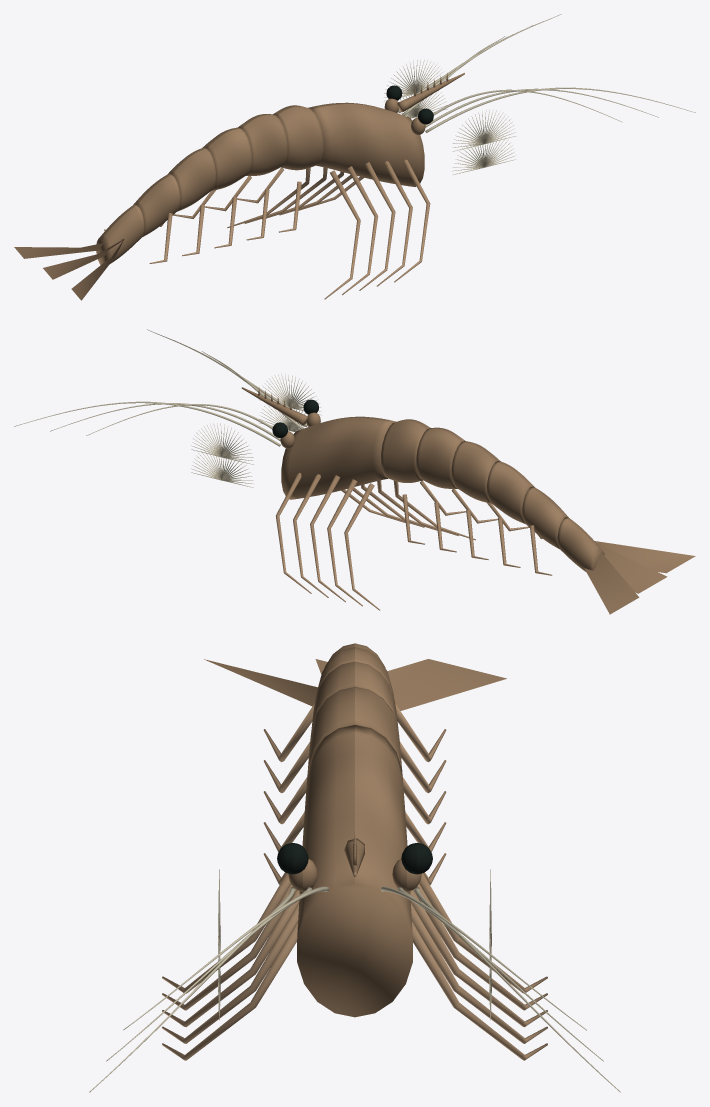
File: bambooshrimp-desktop.glb
3 views of the same model, one above another, from view 1: azimuth 30°, elevation 25°; view 2: azimuth 150°, elevation 25°; view 3: azimuth 270°, elevation 25° (orthographic). The views are drawn at different scales.
Parts seen in each view (by area): view 1: carapace, pereiopod, filter-feeding-fan, antenna, pleopod, serrated-rostrum; view 2: carapace, pereiopod, filter-feeding-fan, antenna, pleopod, serrated-rostrum; view 3: carapace, pereiopod, pleopod, antenna, eye, eye-stalk, filter-feeding-fan.
Part boxes in pixels (x1,y1,x2,y2): carapace: (14, 102, 424, 300); pereiopod: (227, 159, 430, 299); filter-feeding-fan: (384, 59, 515, 174); antenna: (398, 14, 695, 132); pleopod: (104, 167, 301, 263); serrated-rostrum: (397, 73, 464, 111); carapace: (281, 416, 695, 614); pereiopod: (276, 472, 475, 610); filter-feeding-fan: (191, 373, 321, 487); antenna: (14, 329, 307, 446); pleopod: (402, 480, 552, 575); serrated-rostrum: (241, 387, 308, 425); carapace: (204, 643, 506, 1017); pereiopod: (162, 873, 547, 1060); pleopod: (263, 703, 446, 884); antenna: (89, 886, 620, 1092); eye: (277, 843, 432, 874); eye-stalk: (288, 859, 421, 891); filter-feeding-fan: (218, 869, 491, 1019).
Size of the model in its own units: 1.18 by 0.2938 by 0.4706.
